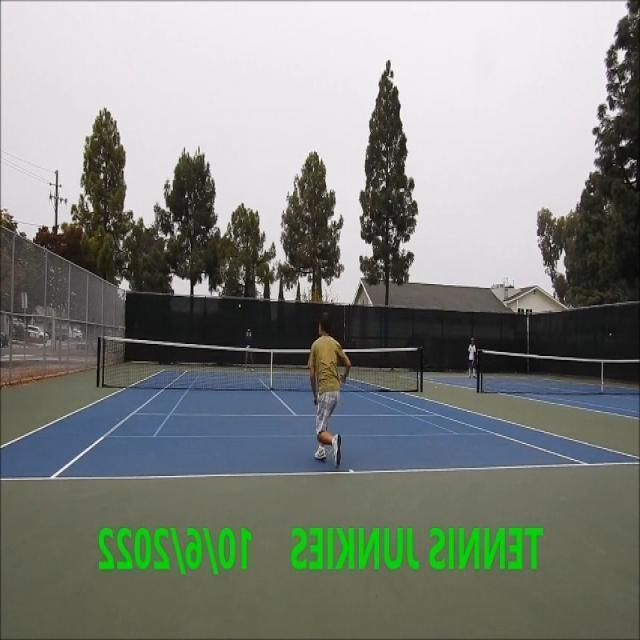court: (0, 370, 640, 480)
player: (308, 312, 352, 469)
